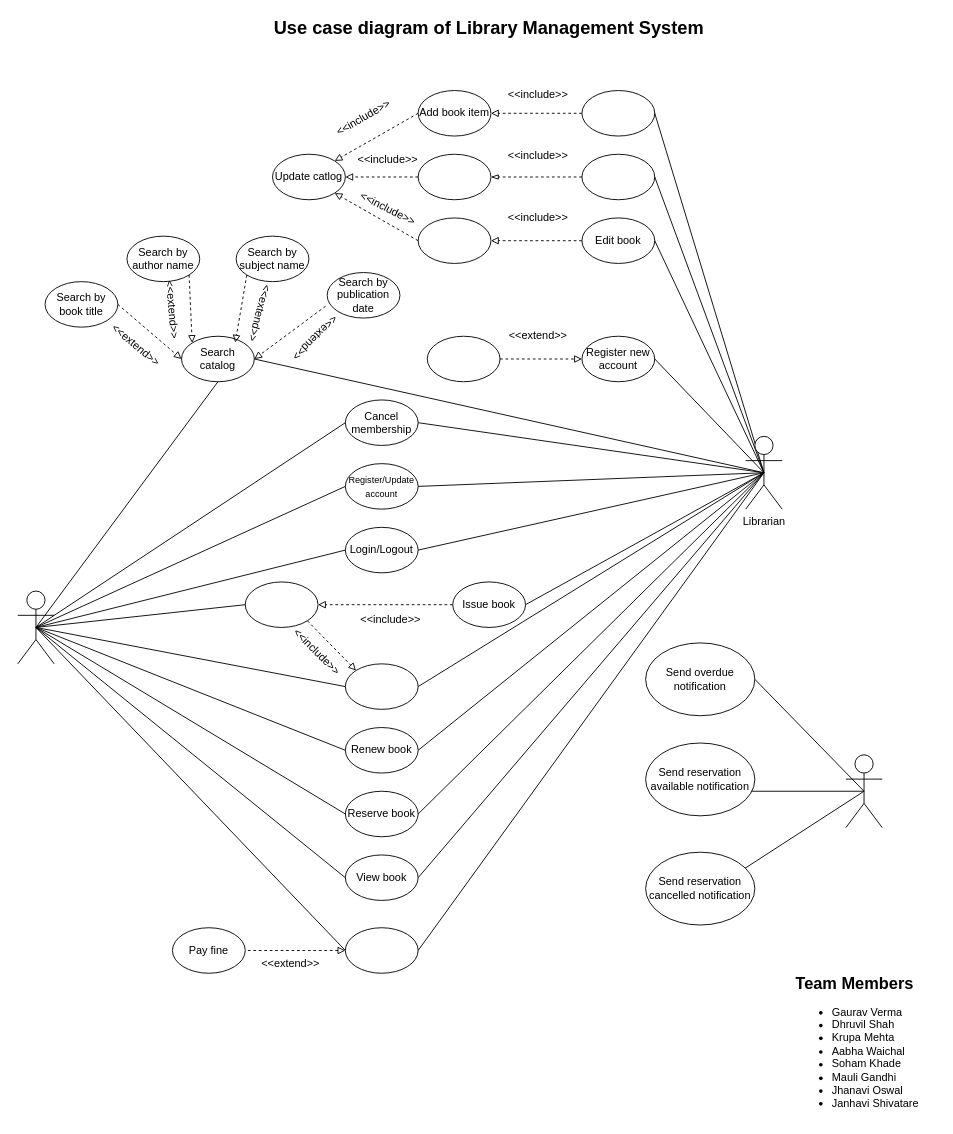
This 953x1134 diagram has some shape labels left out. Each missing label, with the centre of its shape:
"Add Book" goes at [618,113].
"Checkout book" goes at [281,604].
"Edit book item" goes at [454,240].
"Issue library card" goes at [463,358].
"Member" goes at [35,627].
"Remove book" goes at [618,176].
"Remove book item" goes at [454,176].
"Remove reservation" goes at [381,686].
"Return book" goes at [381,950].
"System" goes at [863,791].
